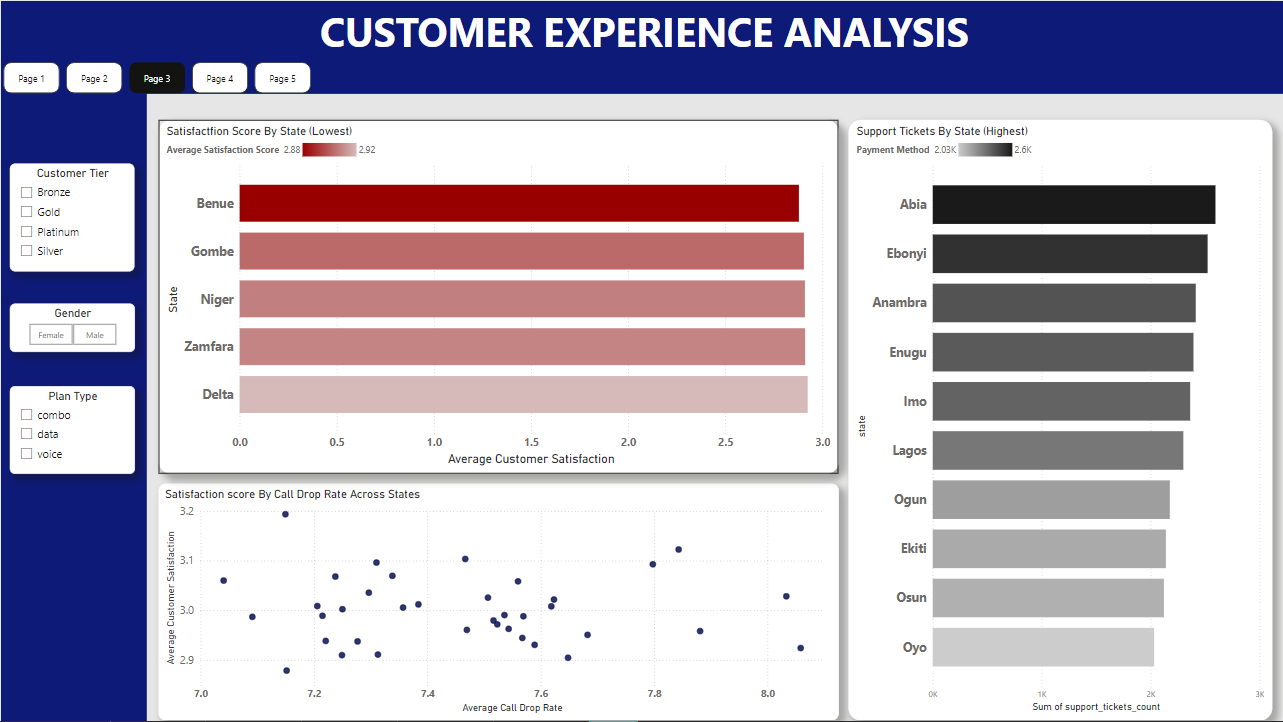

Layout of this report page (visuals, bound fields, positions):
{"tool":"powerbi","page":{"name":"Page 3","canvas":[1920,1080],"ordinal":2},"visuals":[{"type":"scatterChart","title":"Satisfaction score By Call Drop Rate Across States","fields":{"Category":["mtn_final_telecom_cleaned_data (2).state"],"X":["Avg(mtn_final_telecom_cleaned_data (2).call_drop_rate)"],"Y":["Avg(mtn_final_telecom_cleaned_data (2).customer_satisfaction)"]},"box":[248.4,714.9,1007.7,351.4],"z":0},{"type":"textbox","box":[14.4,107,216.1,973.6],"z":1000},{"type":"clusteredBarChart","title":"Satisfactfion Score By State (Lowest)","fields":{"Category":["mtn_final_telecom_cleaned_data (2).state"],"Y":["Avg(mtn_final_telecom_cleaned_data (2).customer_satisfaction)1"]},"box":[248.4,175.7,1007.7,525],"z":2000},{"type":"slicer","title":"Customer Tier","fields":{"Values":["mtn_final_telecom_cleaned_data (2).customer_tier"]},"box":[28.6,240.6,185.1,160.4],"z":3000},{"type":"slicer","title":"Gender","fields":{"Values":["mtn_final_telecom_cleaned_data (2).gender"]},"box":[28.6,448.8,185.2,72],"z":5000},{"type":"textbox","box":[14.1,0,1906.3,137.3],"z":6000},{"type":"slicer","title":"Plan Type","fields":{"Values":["mtn_final_telecom_cleaned_data (2).plan_type"]},"box":[28.3,569.4,185.3,130.3],"z":7000},{"type":"clusteredBarChart","title":"Support Tickets By State (Highest)","fields":{"Category":["mtn_final_telecom_cleaned_data (2).state"],"Y":["Sum(mtn_final_telecom_cleaned_data (2).support_tickets_count)"]},"box":[1270.2,175.7,628,890.5],"z":8000},{"type":"pageNavigator","box":[18.5,90.7,459.3,46.3],"z":9000}]}

Visuals, with their boxes in screenshot pixels (x1, y1, x2, y2), scaled from the page's 1920x1080 canvas onto the 1283x722 screenshot:
"Satisfaction score By Call Drop Rate Across States" scatterChart: bbox(166, 478, 839, 713)
textbox: bbox(10, 72, 154, 721)
"Satisfactfion Score By State (Lowest)" clusteredBarChart: bbox(166, 117, 839, 468)
"Customer Tier" slicer: bbox(19, 161, 143, 268)
"Gender" slicer: bbox(19, 300, 143, 348)
textbox: bbox(9, 0, 1282, 92)
"Plan Type" slicer: bbox(19, 381, 143, 468)
"Support Tickets By State (Highest)" clusteredBarChart: bbox(849, 117, 1268, 713)
pageNavigator: bbox(12, 61, 319, 92)
